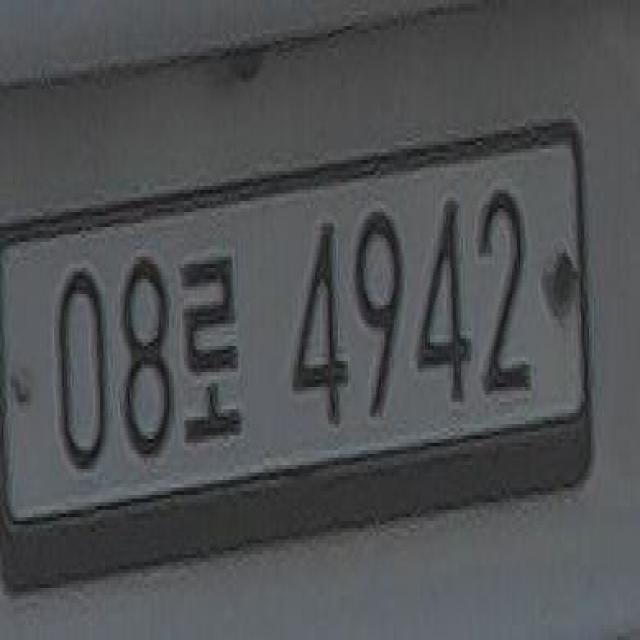illegal_plate: (2, 114, 608, 552)
